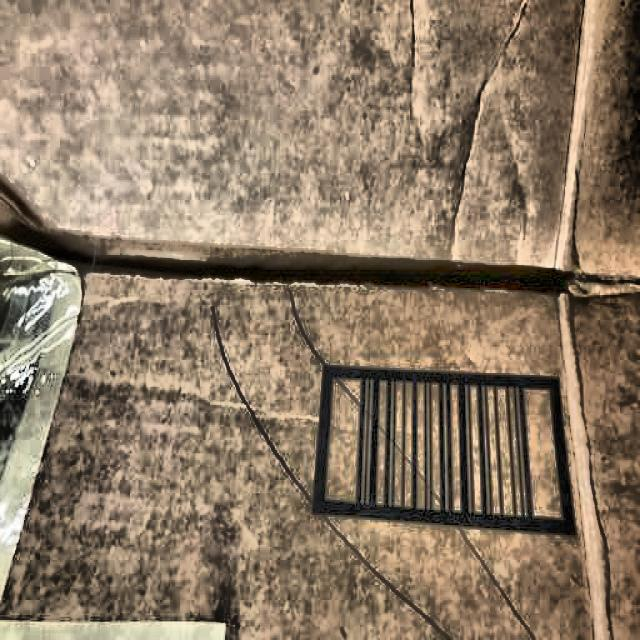cardboard: (4, 3, 637, 635)
